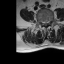CCS_severe_stenosis: (45, 19, 47, 28)
LFS_stenosis: (48, 18, 50, 24)
LLS_normal: (47, 19, 48, 27)
RFS_normal: (41, 19, 43, 25)
RLS_normal: (43, 19, 45, 27)
